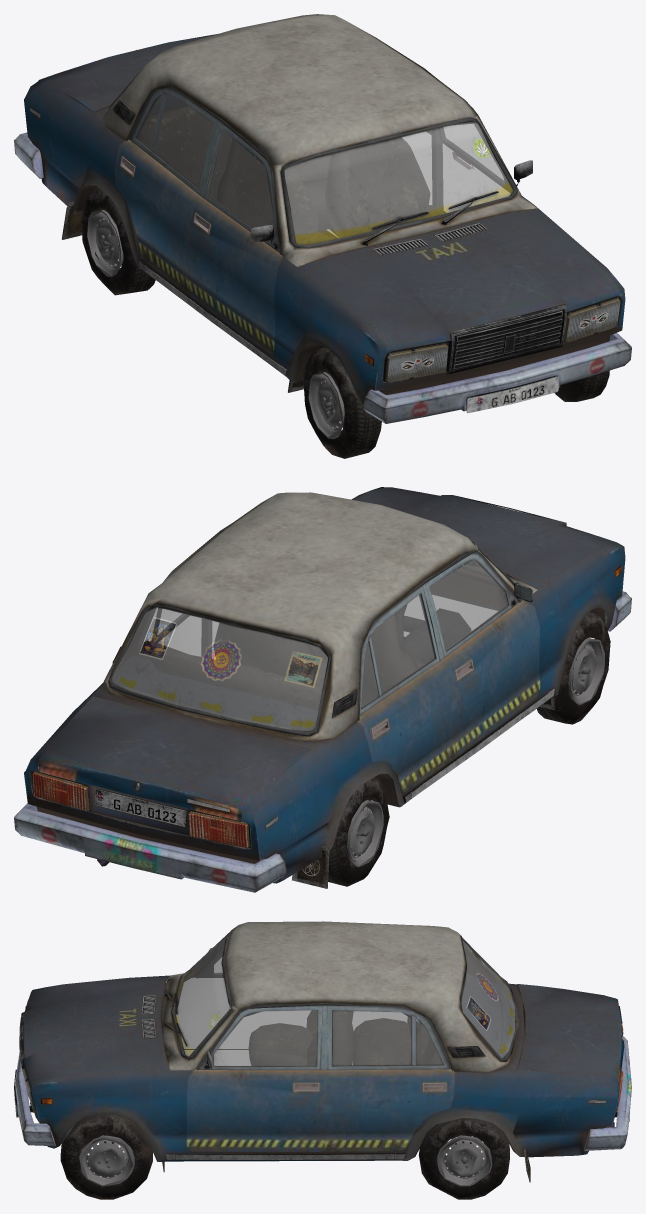
The model's file is car_lada.glb.
The picture shows the model from 3 angles, top to bottom: view 1: azimuth 30°, elevation 25°; view 2: azimuth 150°, elevation 25°; view 3: azimuth 270°, elevation 25°; orthographic projection. The views are drawn at different scales.
Visible parts, largest first — view 1: Object_10, Object_8, Object_6, Object_9, Object_7, Object_11; view 2: Object_10, Object_8, Object_6, Object_7, Object_9, Object_11; view 3: Object_10, Object_8, Object_7, Object_6, Object_9.
Part boxes in pixels (x1,y1,x2,y2): Object_10: (14,14,631,423); Object_8: (136,95,518,249); Object_6: (138,95,445,244); Object_9: (30,50,620,413); Object_7: (82,187,609,458); Object_11: (385,298,620,382); Object_10: (14,487,631,892); Object_8: (111,559,508,731); Object_6: (115,614,424,730); Object_7: (84,604,610,886); Object_9: (34,495,621,888); Object_11: (32,771,249,847); Object_10: (14,921,631,1161); Object_8: (173,935,514,1066); Object_7: (60,1114,614,1199); Object_6: (249,973,510,1065); Object_9: (14,948,623,1182).
Size of the model in its own units: 177 by 147 by 416.
Materials: 6 (6 with a texture image).
